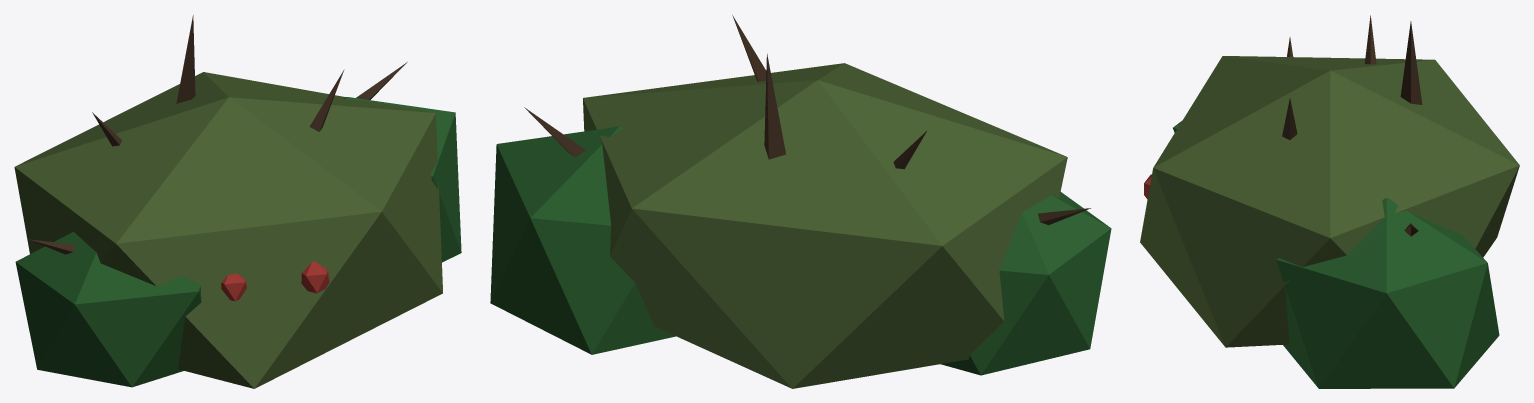
Rendered from briar_bush.glb.
3 renders of one model, left to right at view 1: azimuth 30°, elevation 25°; view 2: azimuth 150°, elevation 25°; view 3: azimuth 270°, elevation 25°, orthographic. The views are drawn at different scales.
Visible parts, largest first — view 1: briar_bush; view 2: briar_bush; view 3: briar_bush.
Boxes of the visible parts, bbox=[...] form: briar_bush: bbox=[14, 15, 461, 388]; briar_bush: bbox=[490, 15, 1111, 388]; briar_bush: bbox=[1140, 15, 1519, 388].
Bounding box in the file's own units: 1.37 × 0.7694 × 0.9428.
